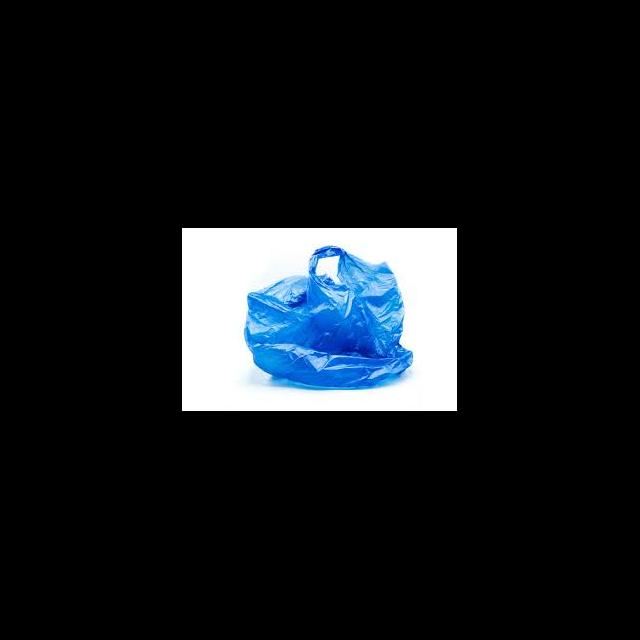plastic: (243, 246, 412, 386)
